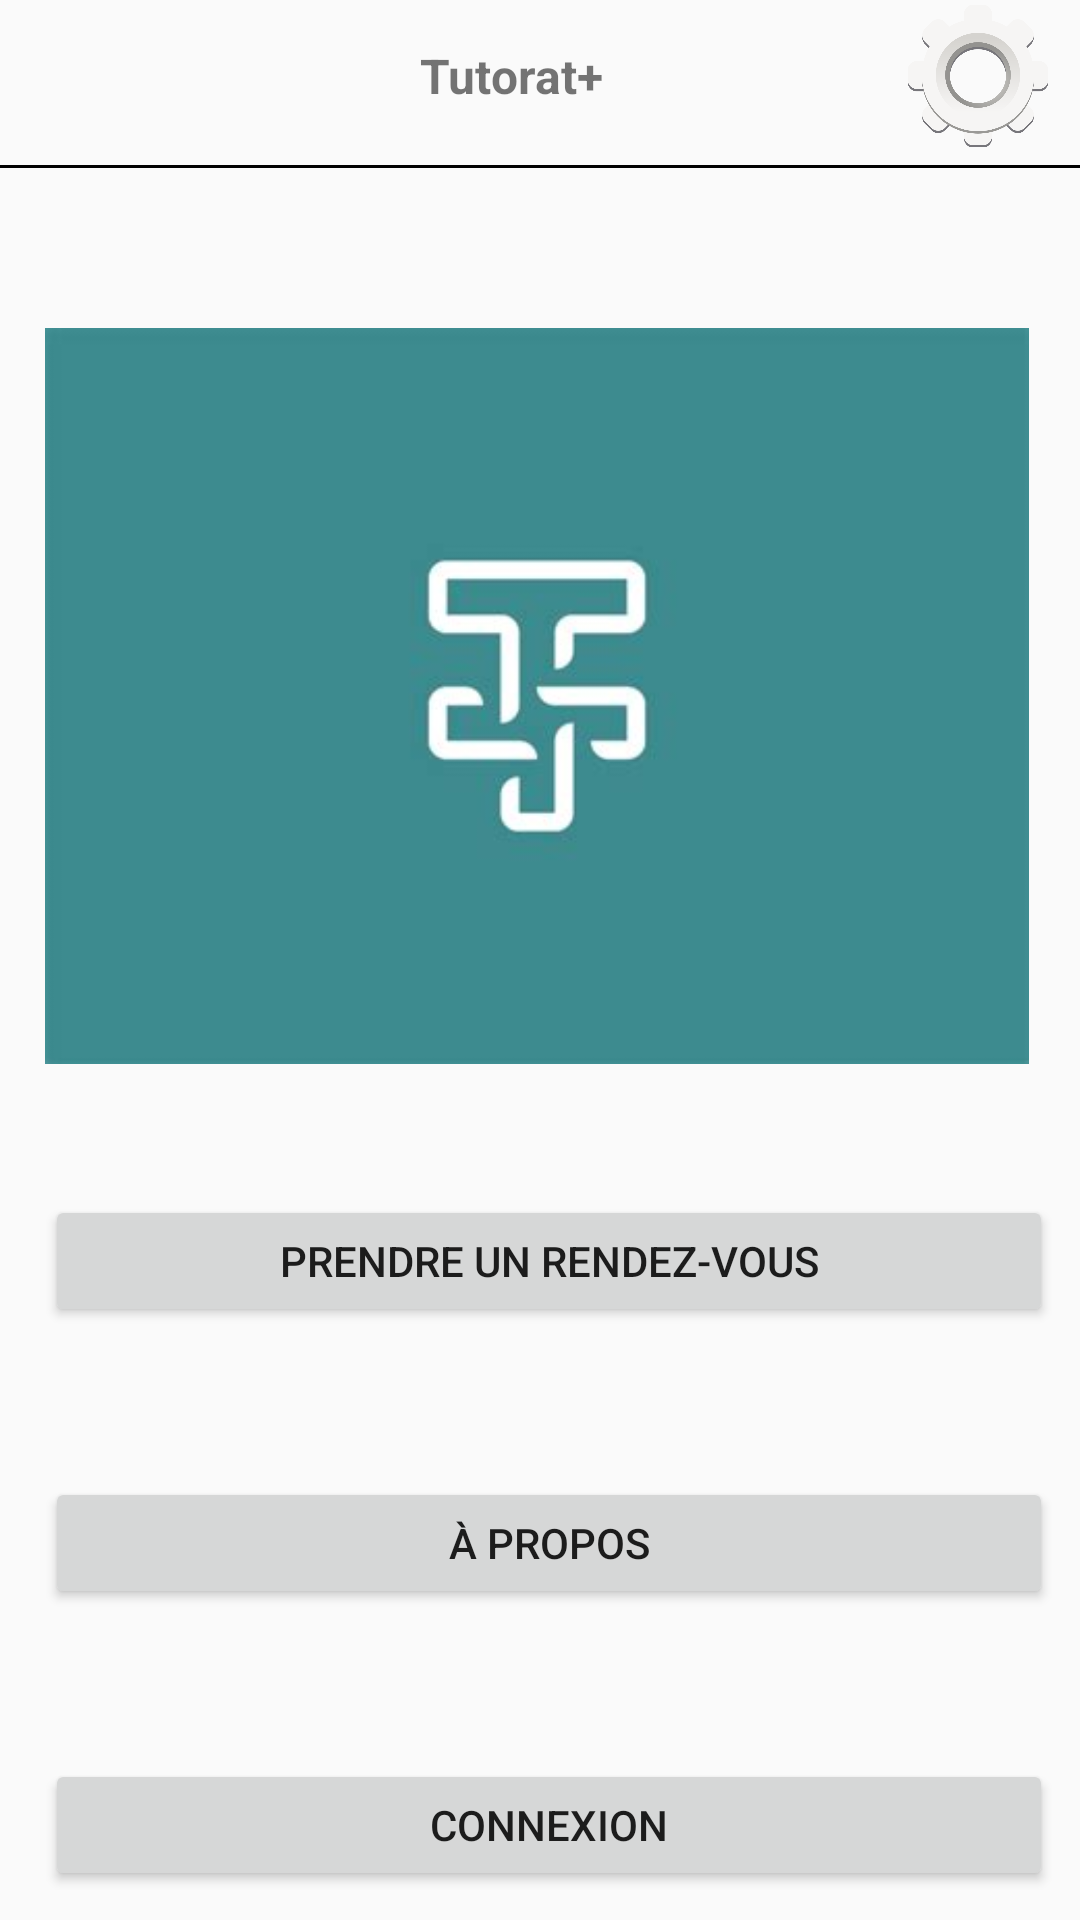

Icons on this 1080x1920 Android screen, each with the point to tap as point (x, y):
settings: point (978, 90)
